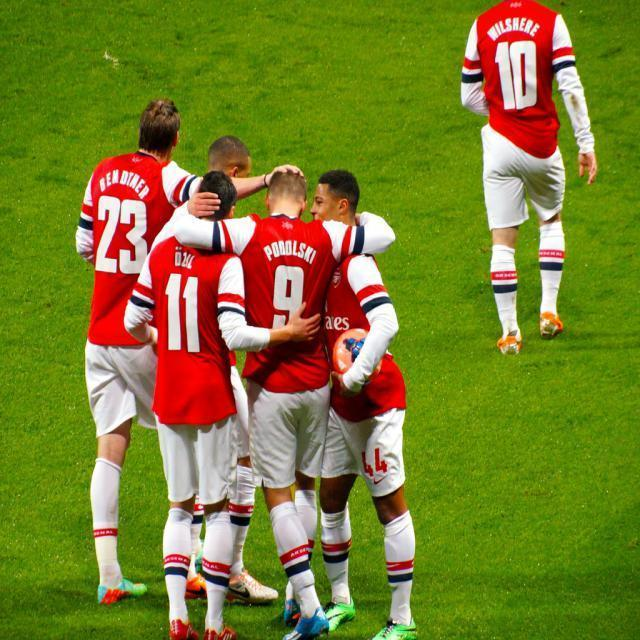ball: (333, 329, 383, 385)
